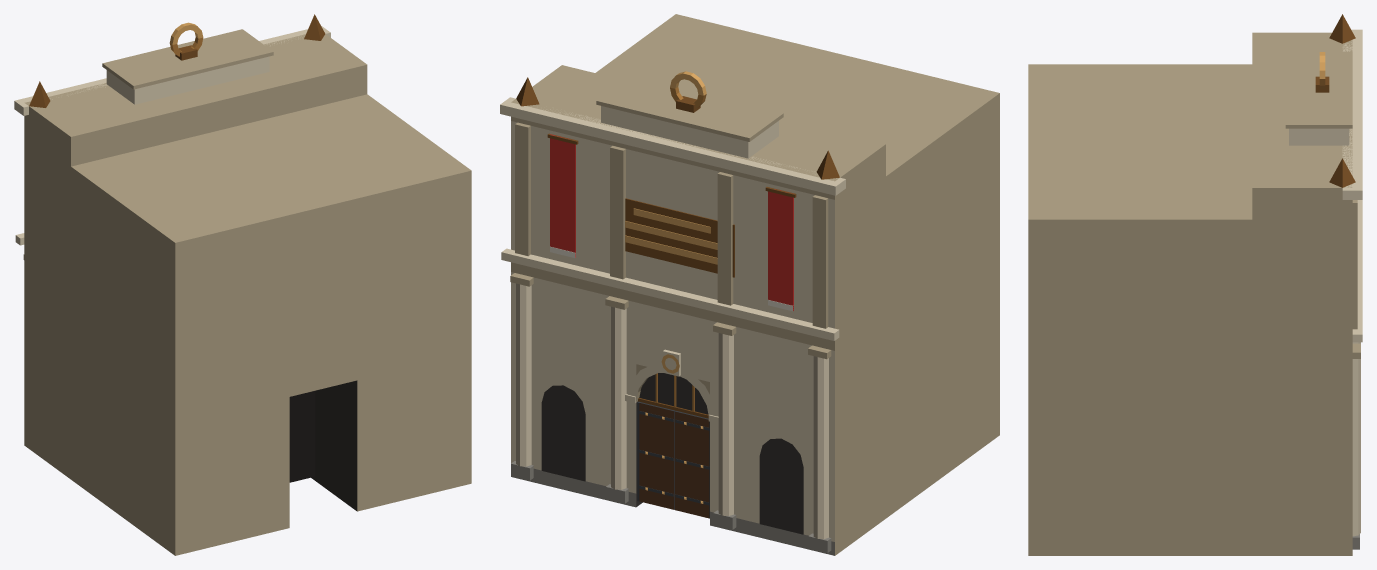
File: SM_ColGreatGate.fbx
3 renders of one model, left to right at view 1: azimuth 30°, elevation 25°; view 2: azimuth 150°, elevation 25°; view 3: azimuth 270°, elevation 25°, orthographic. The views are drawn at different scales.
Parts seen in each view (by area): view 1: SM_ColGreatGate_Frame; view 2: SM_ColGreatGate_Frame, DoorL, DoorR; view 3: SM_ColGreatGate_Frame.
Boxes of the visible parts, left/top/right/bottom form: SM_ColGreatGate_Frame: left=14, top=14, right=471, bottom=555; SM_ColGreatGate_Frame: left=500, top=14, right=999, bottom=555; DoorL: left=637, top=401, right=675, bottom=509; DoorR: left=674, top=411, right=709, bottom=518; SM_ColGreatGate_Frame: left=1028, top=14, right=1362, bottom=555.
Bounding box in the file's own units: 22.8 × 20 × 28.02.
